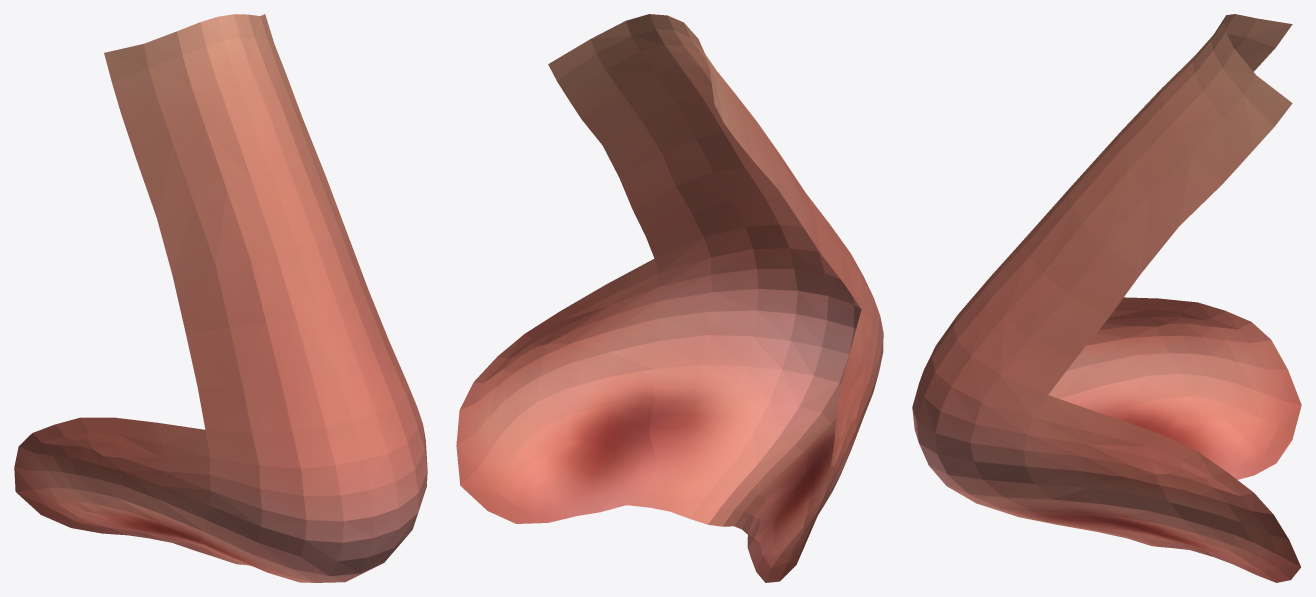
Rendered from euro-fem-nose-long.obj.
3 views of the same model, side by side, from view 1: azimuth 30°, elevation 25°; view 2: azimuth 150°, elevation 25°; view 3: azimuth 270°, elevation 25° (orthographic). The views are drawn at different scales.
Parts seen in each view (by area): view 1: euro-fem-nose-long.001; view 2: euro-fem-nose-long.001; view 3: euro-fem-nose-long.001.
Boxes of the visible parts, box(x1,y1,x2,y2) form: euro-fem-nose-long.001: box(14, 14, 427, 582); euro-fem-nose-long.001: box(456, 14, 883, 582); euro-fem-nose-long.001: box(912, 14, 1301, 582).
Bounding box in the file's own units: 0.1829 × 0.2583 × 0.175.
1 material, 1 textured.
